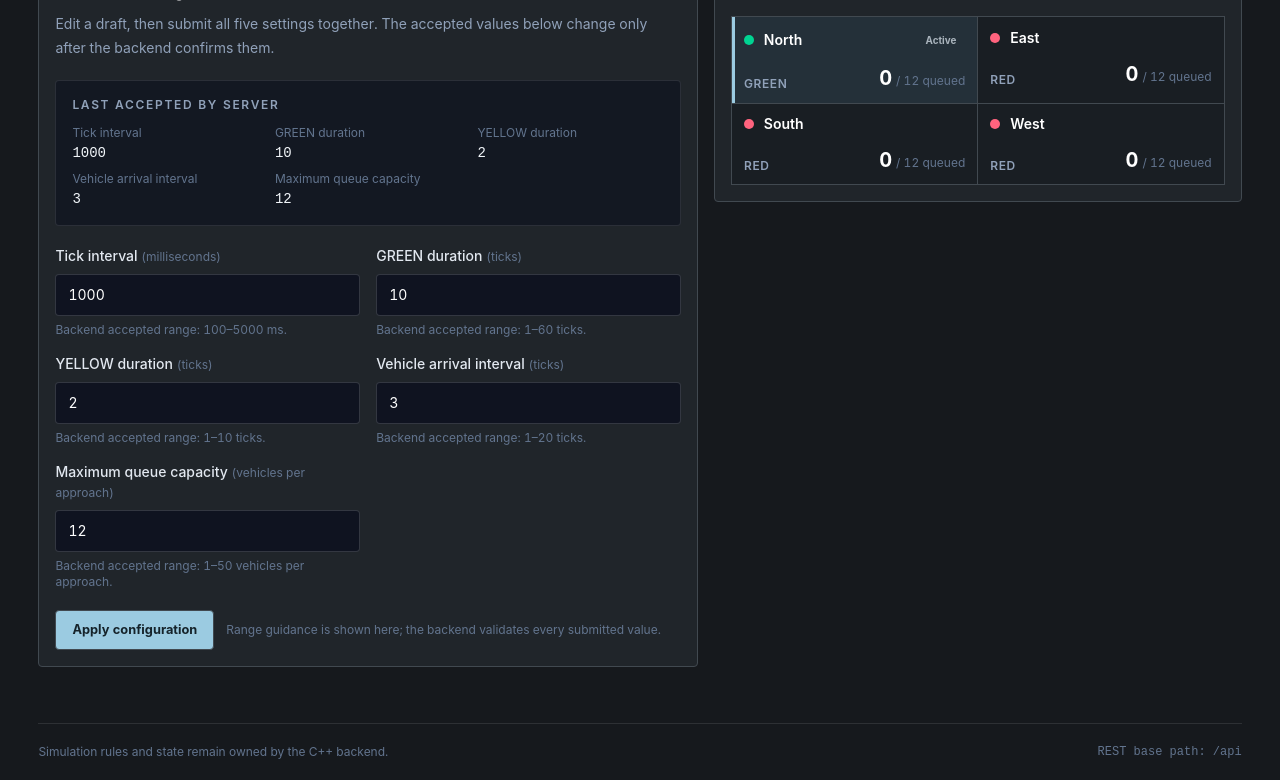
Test: simulation controls and configuration › disables the configuration form and prevents resubmission while saving
Later steps or results of the test are not shown.
(page scrolled)
Click the button "Apply configuration": point(135, 630) left=55, top=610, right=214, bottom=650
(page scrolled)
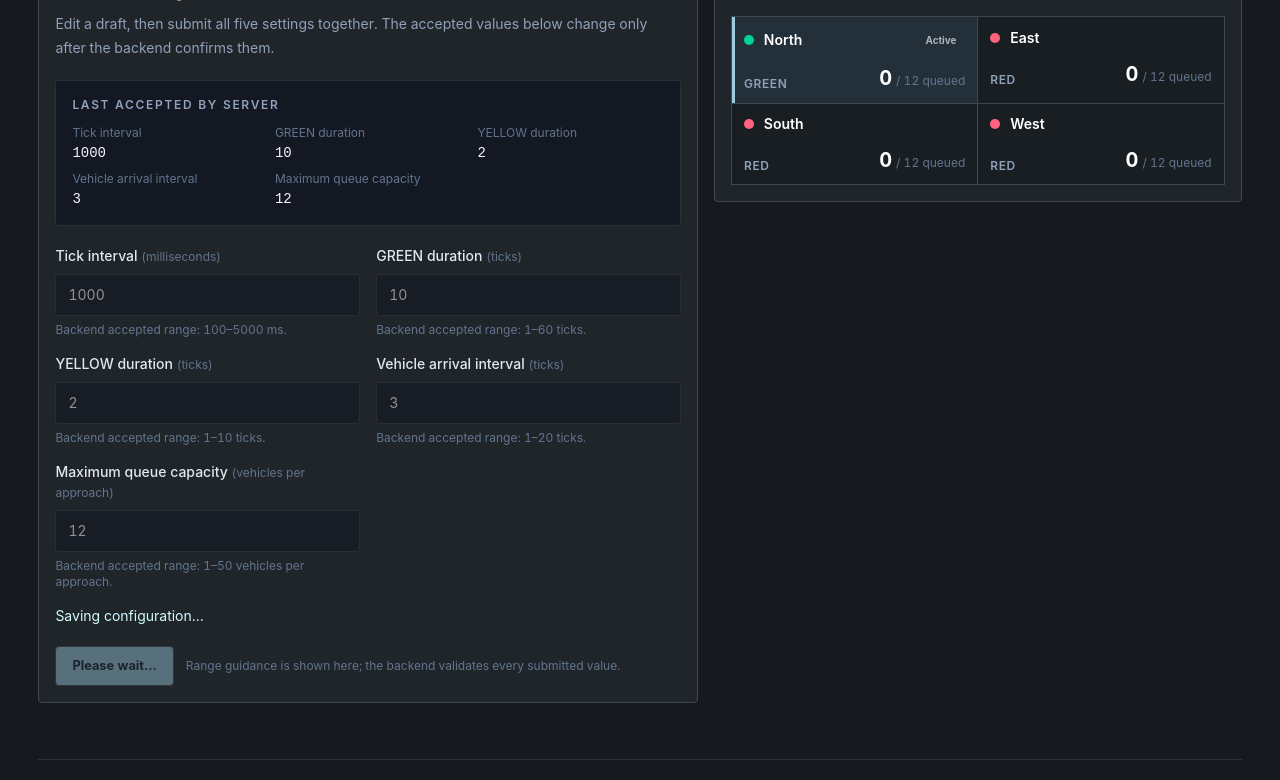
Expected: the button "Please wait…" is disabled, left=55, top=646, right=174, bottom=686
Expected: the element "Tick interval" is disabled, left=55, top=246, right=681, bottom=590
Expected: the text "Saving configuration…" is shown 2 times
